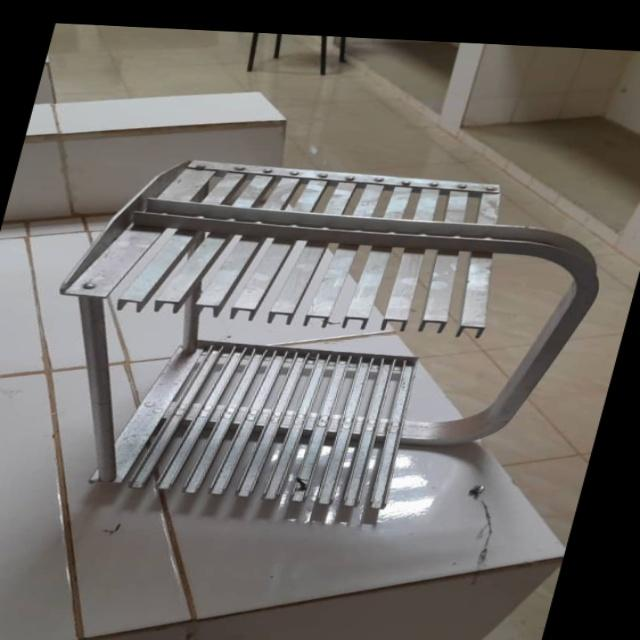Plate Rack: (0, 148, 633, 532)
